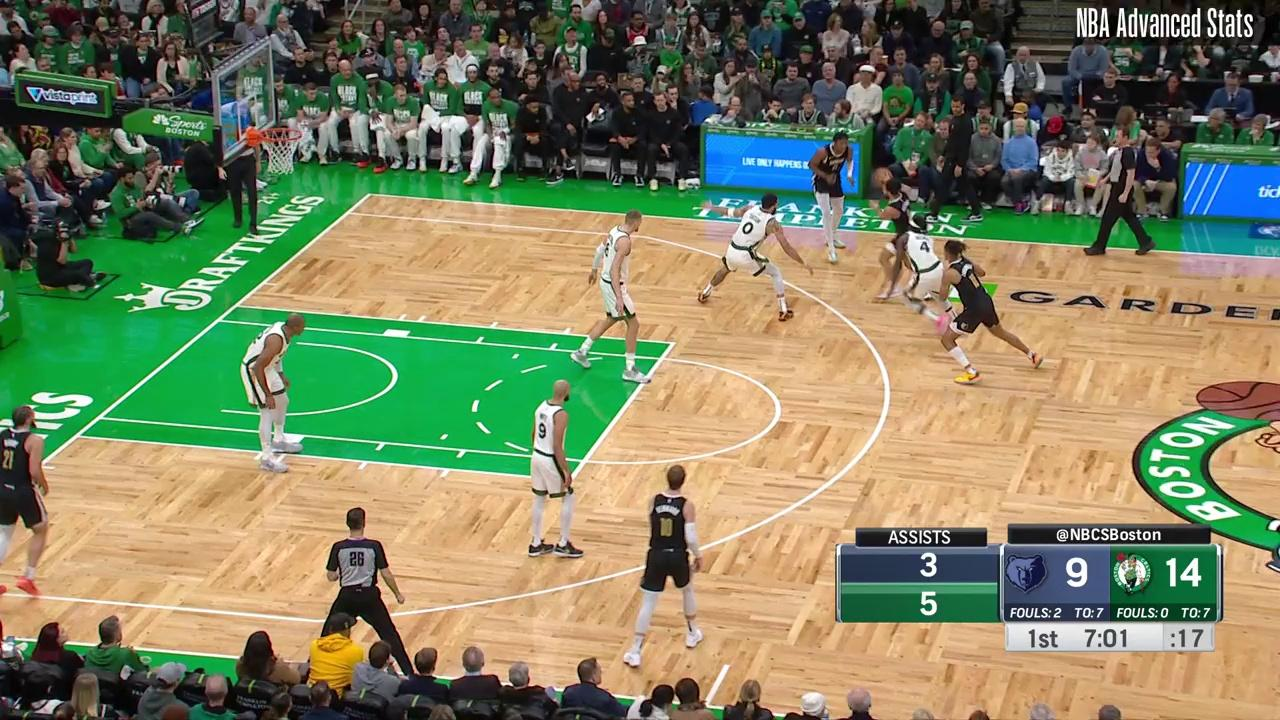3_dx: (341, 206, 357, 219)
b_dx: (363, 189, 378, 200)
free_adx: (664, 337, 681, 351)
free_bdx: (229, 299, 244, 313)
free_bsx: (69, 429, 85, 444)
mid_sx: (718, 658, 735, 674), (720, 659, 732, 670)
referee: (319, 507, 416, 670), (1085, 124, 1156, 255), (219, 129, 260, 237)
team: (624, 462, 705, 673), (939, 241, 1047, 380), (0, 403, 49, 597), (809, 130, 858, 269), (870, 168, 918, 301)
team1: (573, 210, 651, 385), (697, 194, 799, 320), (240, 313, 308, 474), (528, 379, 581, 558), (891, 214, 963, 340)
timer: (1075, 623, 1132, 652)
